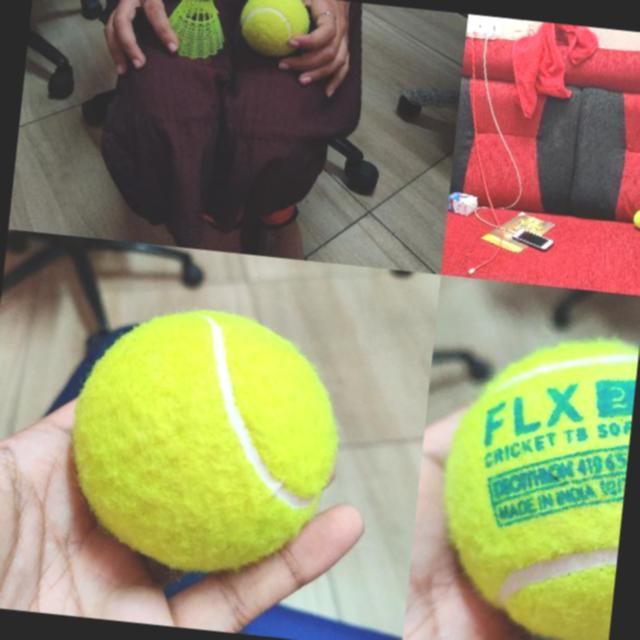tennis-ball: (61, 298, 347, 580), (429, 324, 638, 640), (236, 0, 311, 58), (631, 206, 640, 230)
